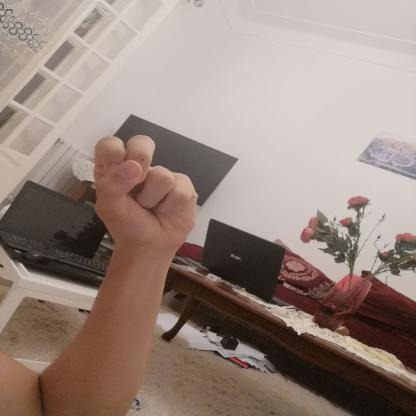QAAF: (76, 125, 218, 261)
